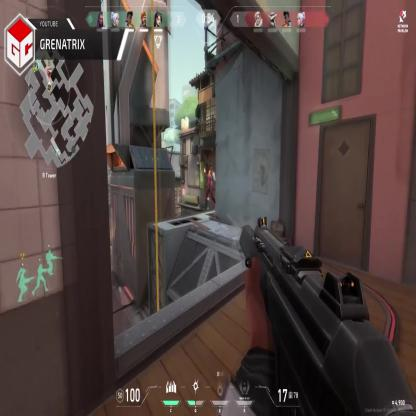enemy: (206, 162, 216, 214)
enemy_head: (209, 163, 212, 172)
